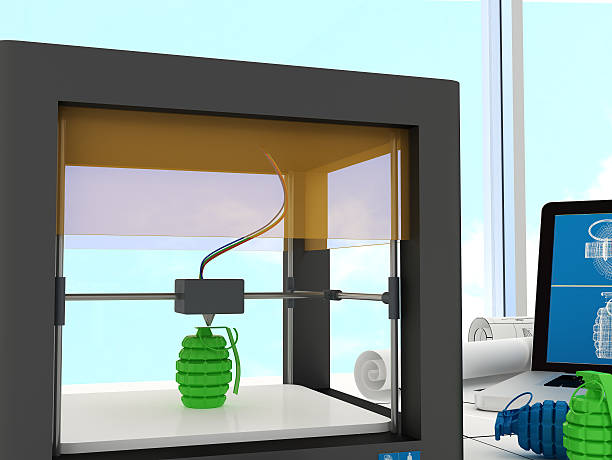e1: (176, 323, 242, 415), (562, 370, 612, 458)
